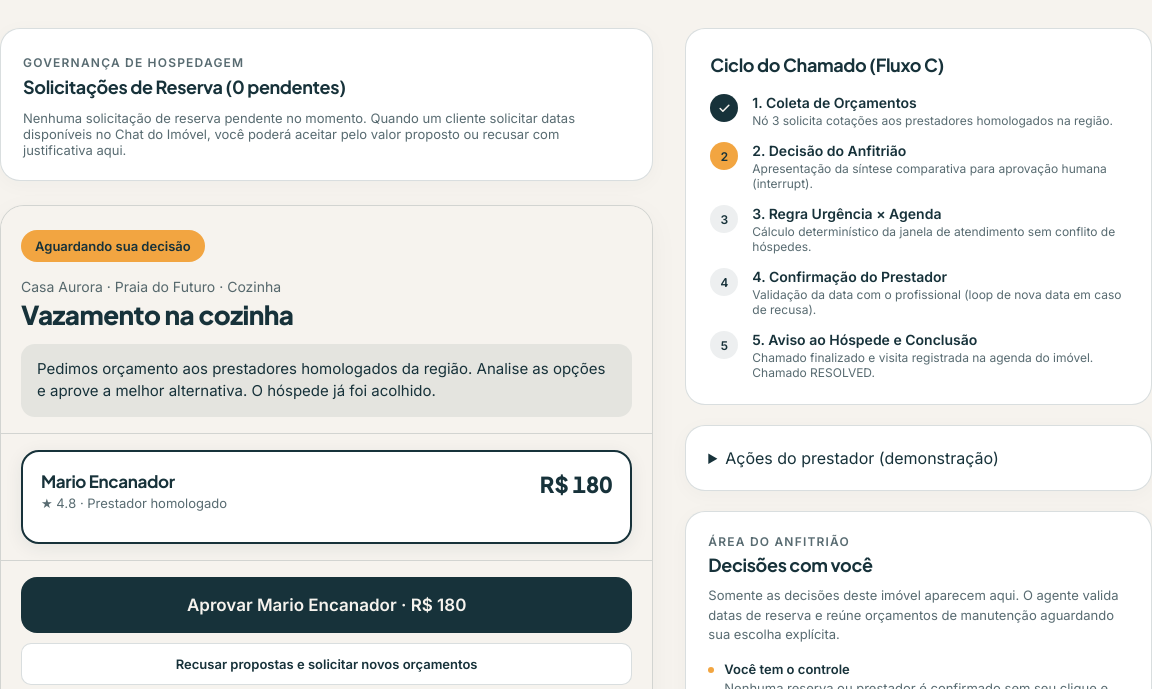
it: mantém a aprovação pendente e mostra o erro real quando o servidor recusa
This screenshot has width=1152, height=689.
Click the button "Aprovar Mario Encanador · R$ 180" at (327,605), box [21, 577, 632, 633]
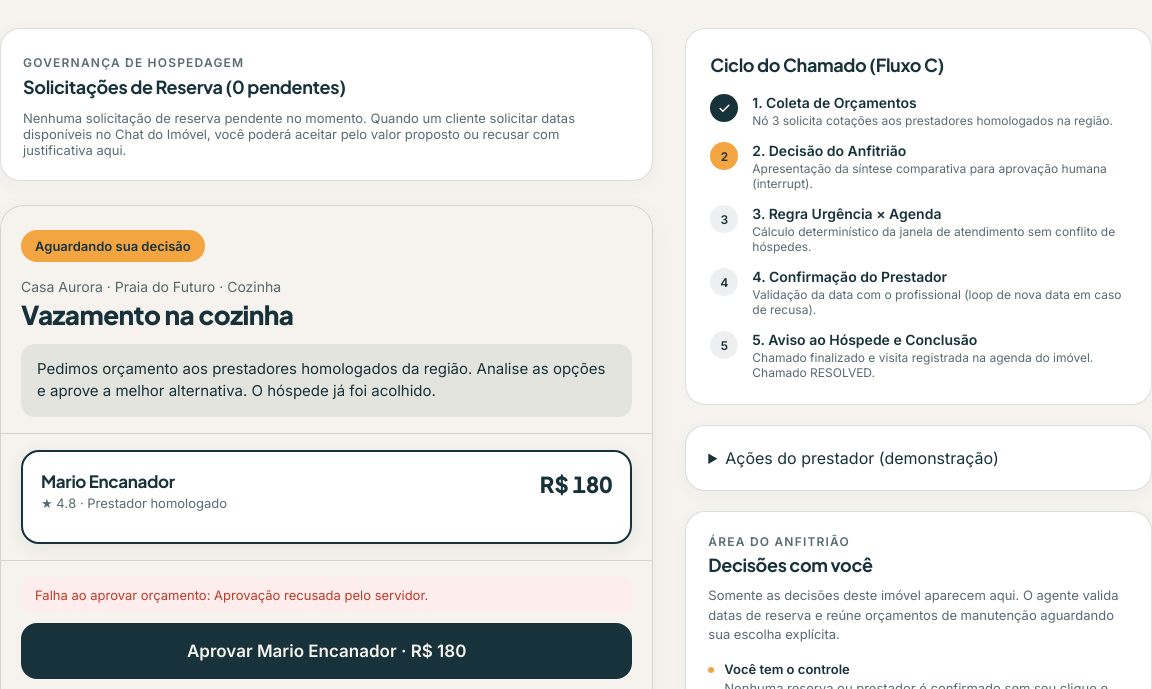
Expected: the button "Aprovar Mario Encanador · R$ 180" is enabled, [21, 623, 632, 679]
Now the message shows "Aprovação recusada pelo servidor", box [35, 587, 428, 603]
